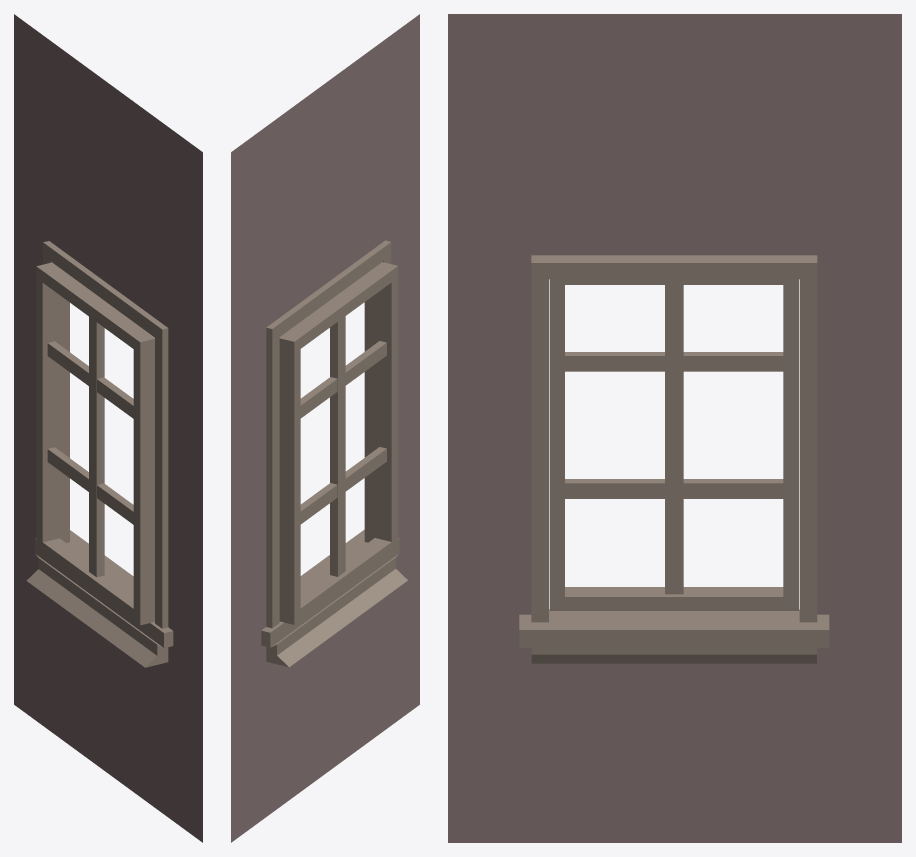
The model's file is WallWindow.fbx.
The picture shows the model from 3 angles, left to right: view 1: azimuth 30°, elevation 25°; view 2: azimuth 150°, elevation 25°; view 3: azimuth 270°, elevation 25°; orthographic projection. The views are drawn at different scales.
Parts seen in each view (by area): view 1: WallWindow; view 2: WallWindow; view 3: WallWindow.
Boxes of the visible parts, x1=… form: WallWindow: x1=14, y1=14, x2=202, y2=842; WallWindow: x1=231, y1=14, x2=419, y2=842; WallWindow: x1=448, y1=14, x2=901, y2=842.
Bounding box in the file's own units: 44.97 × 605 × 300.
